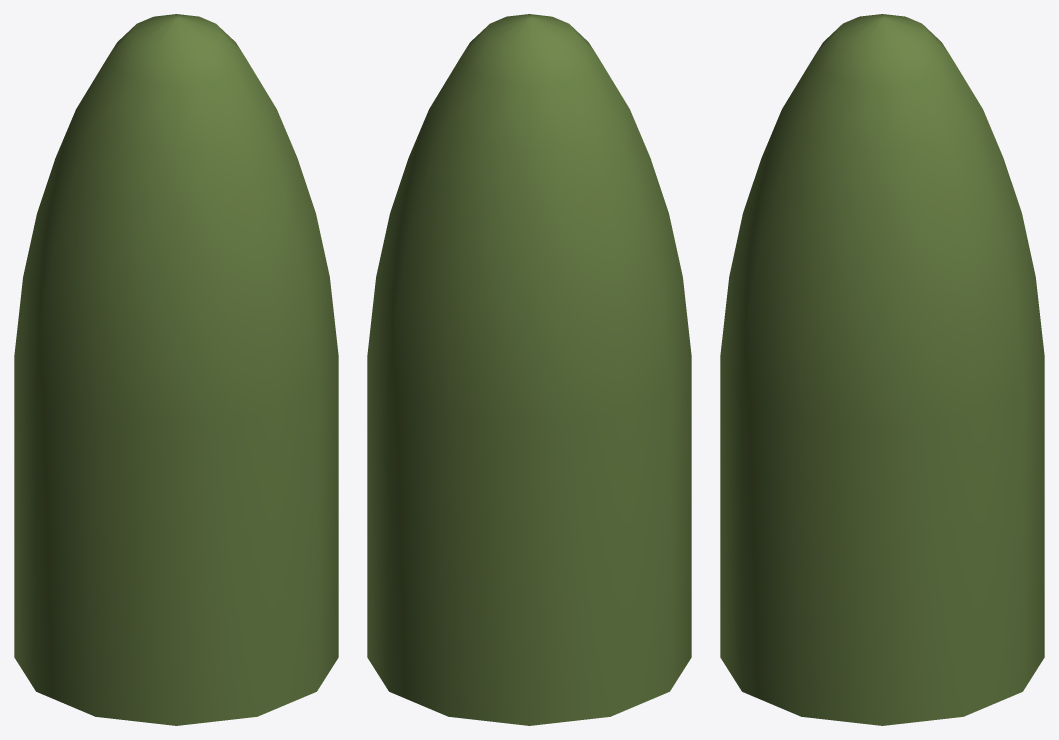
Rendered from Shadbush_Analytical_0.obj.
3 renders of one model, left to right at view 1: azimuth 30°, elevation 25°; view 2: azimuth 150°, elevation 25°; view 3: azimuth 270°, elevation 25°, orthographic.
Visible parts, largest first — view 1: AnalyticalCrown; view 2: AnalyticalCrown; view 3: AnalyticalCrown.
Part boxes in pixels (x1,y1,x2,y2): AnalyticalCrown: [14, 14, 338, 725]; AnalyticalCrown: [367, 14, 691, 725]; AnalyticalCrown: [720, 14, 1044, 725].
Size of the model in its own units: 1.84 by 4 by 1.84.
